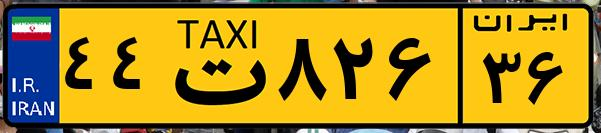2: (330, 28, 385, 110)
3: (475, 38, 525, 113)
4: (57, 26, 110, 100), (110, 28, 158, 98)
6: (385, 28, 445, 110), (525, 38, 570, 115)
8: (270, 28, 330, 110)
ت: (158, 12, 270, 120)
